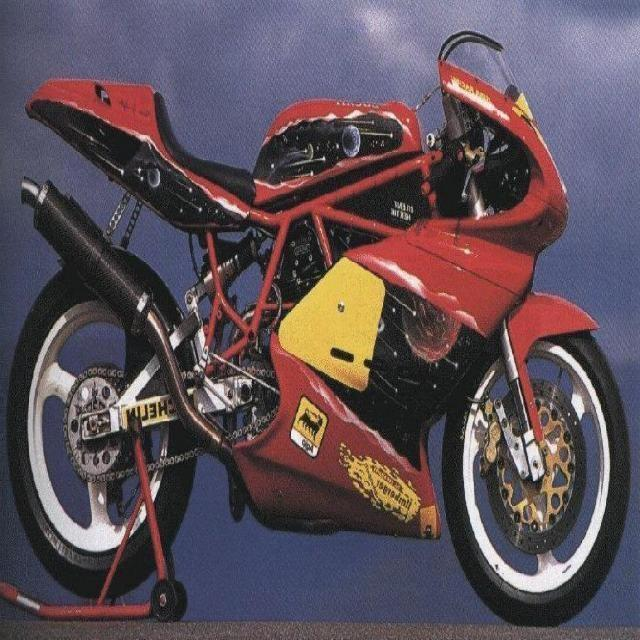Motorcycle: (6, 41, 634, 622)
